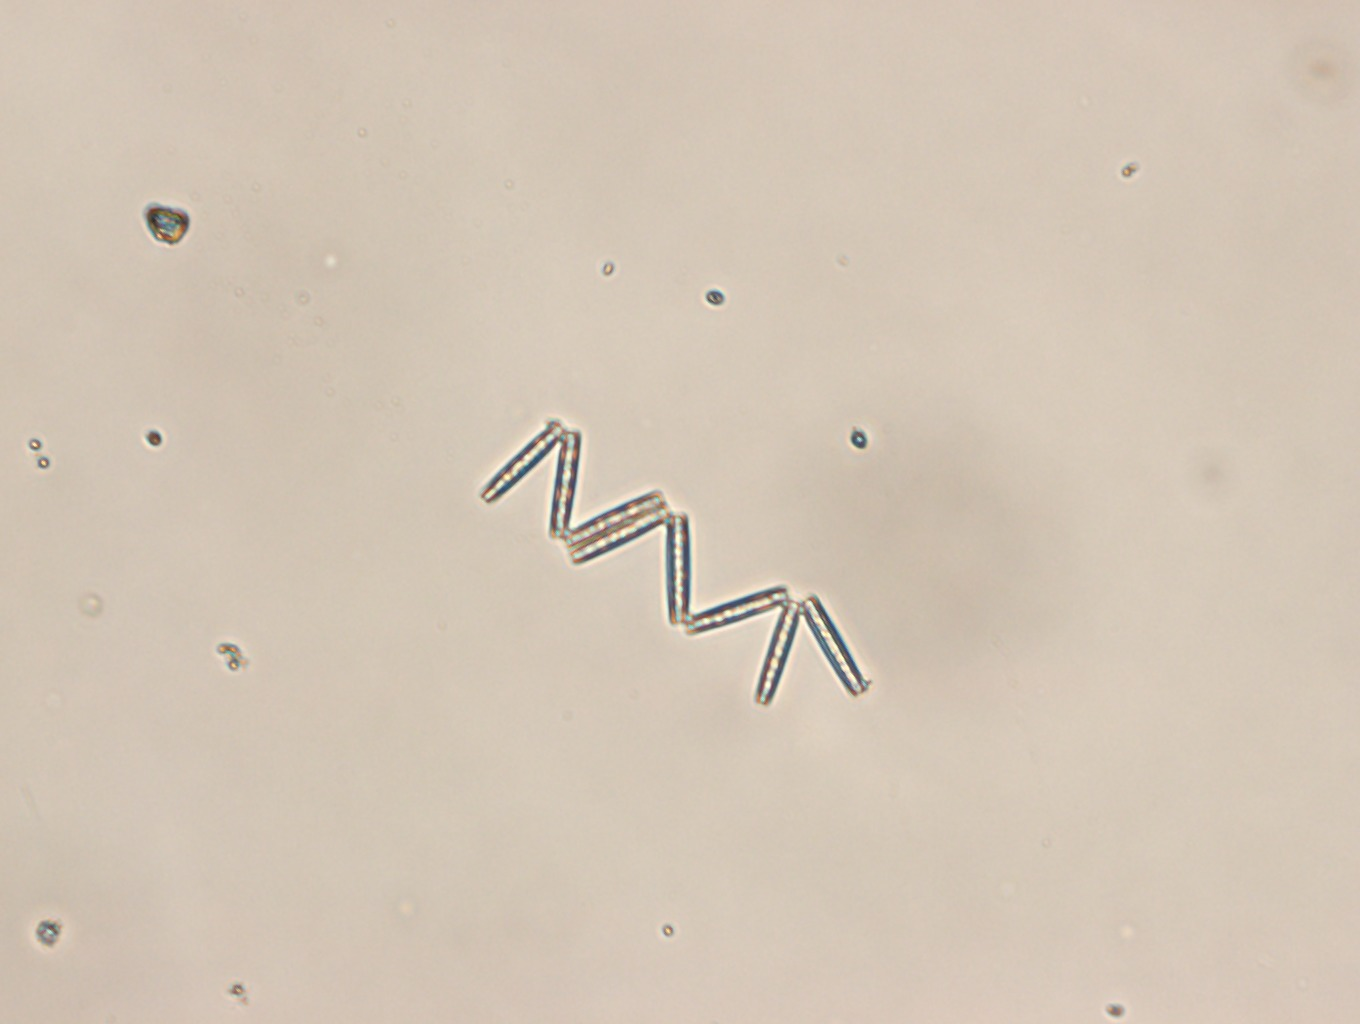thalassionema nitzschioides: (477, 416, 867, 706)
